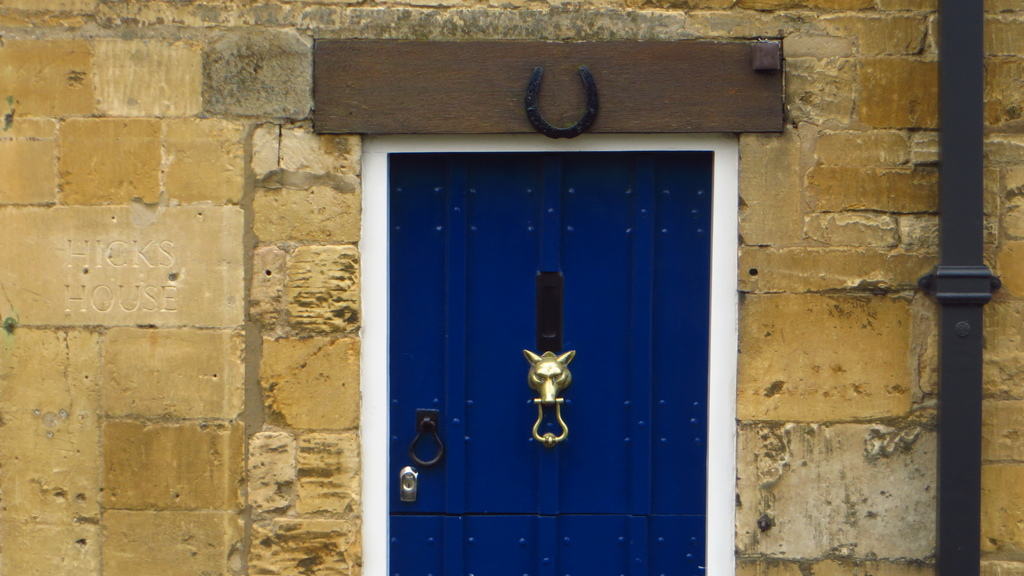door: (391, 158, 706, 576)
handle: (519, 397, 572, 450), (406, 426, 446, 471)
